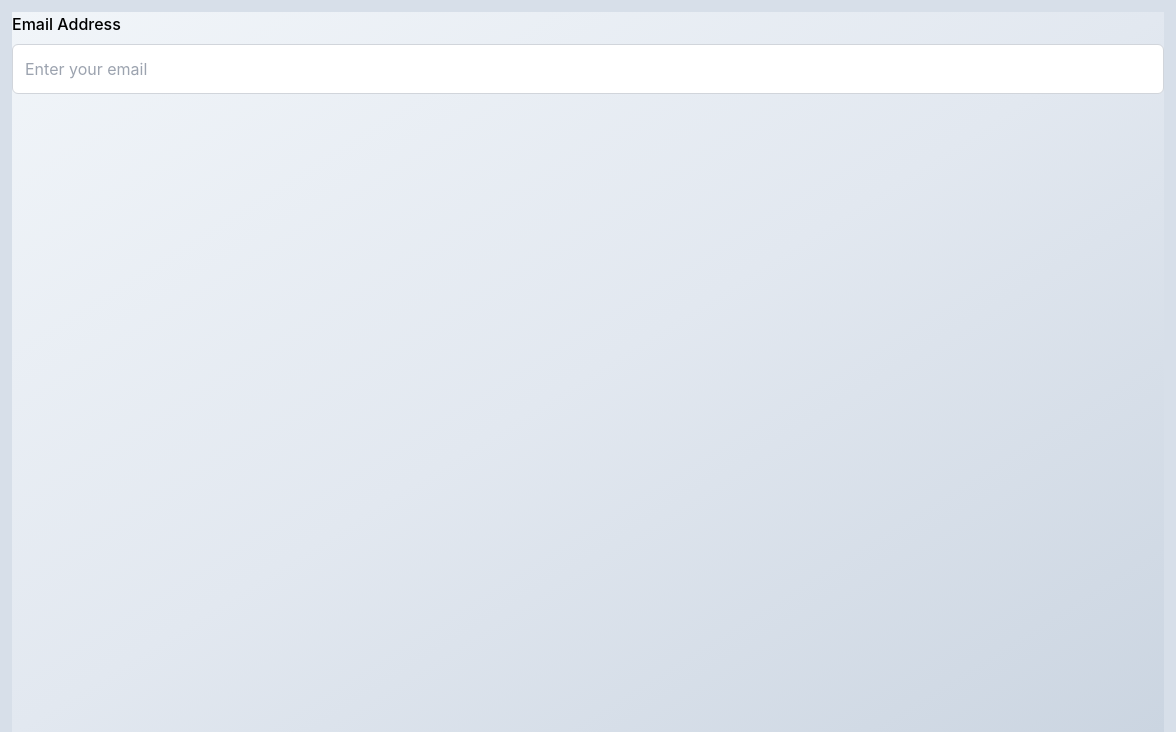
Scenario: EmailInput Component › shows valid email message for correct email
Step 1. Type "test@example.com" into the field with placeholder "Enter your email" → (588, 69), box [12,44,1164,94]
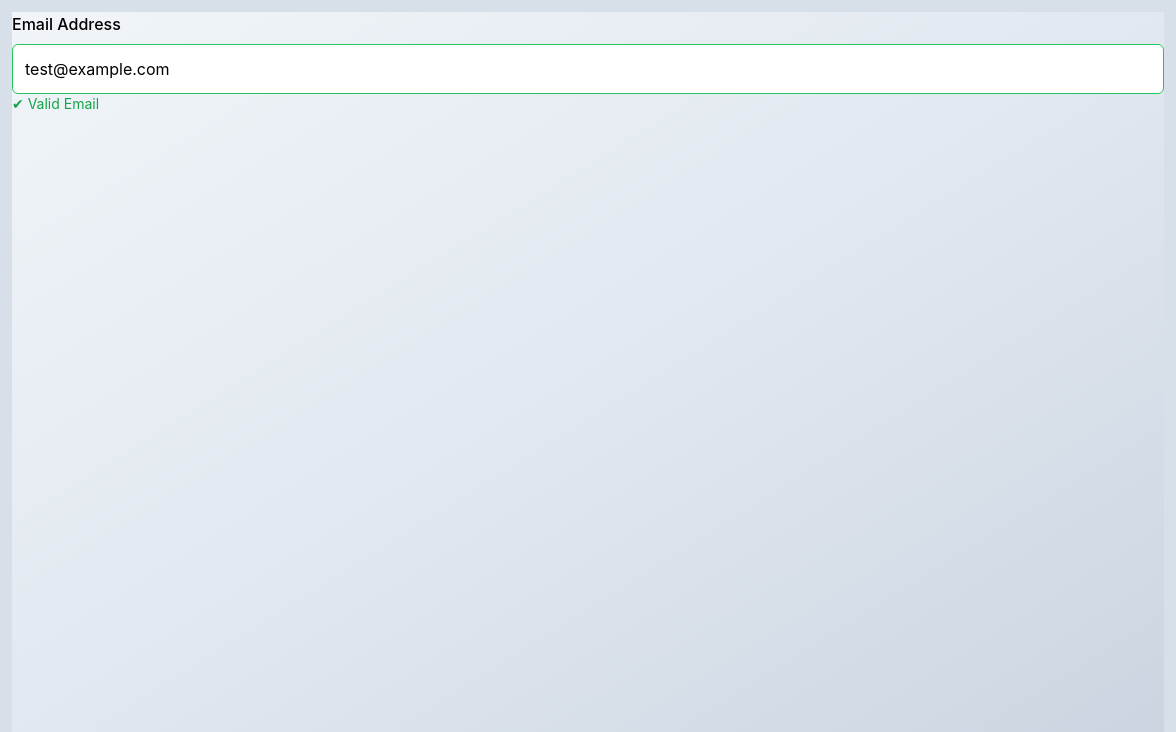
Expected: the text "✔ Valid Email" is shown, [12,95,99,112]
